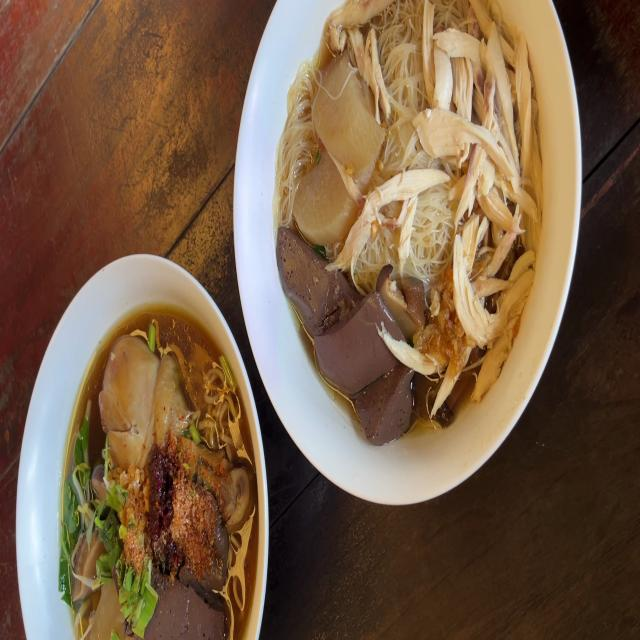boiled_chicken_blood_jelly: (272, 217, 344, 334), (323, 288, 388, 376), (357, 353, 411, 433), (153, 580, 222, 640), (198, 511, 231, 590)
chicken_drumstick: (100, 340, 248, 526)
chicken_shredded: (425, 12, 535, 360), (342, 160, 438, 264), (350, 32, 386, 102), (329, 0, 371, 43)
daikon_radish: (319, 50, 371, 179), (286, 140, 352, 233), (90, 585, 128, 640)
noodle: (288, 9, 538, 438), (48, 338, 242, 640)
